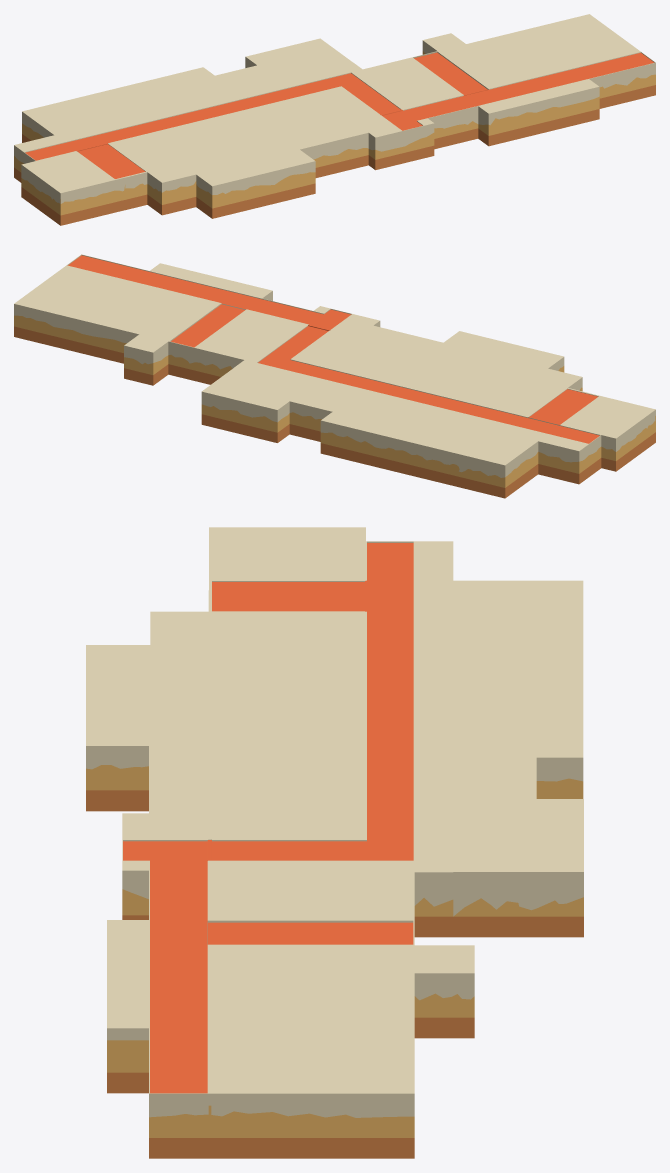
File: mapa3.fbx
3 renders of one model, top to bottom at view 1: azimuth 30°, elevation 25°; view 2: azimuth 150°, elevation 25°; view 3: azimuth 270°, elevation 25°, orthographic. The views are drawn at different scales.
Visible parts, largest first — view 1: Cube; view 2: Cube; view 3: Cube.
Boxes of the visible parts, x1=… form: Cube: x1=14, y1=14, x2=655, y2=225; Cube: x1=14, y1=254, x2=655, y2=498; Cube: x1=86, y1=527, x2=583, y2=1158.
Bounding box in the file's own units: 966 × 51.89 × 359.
